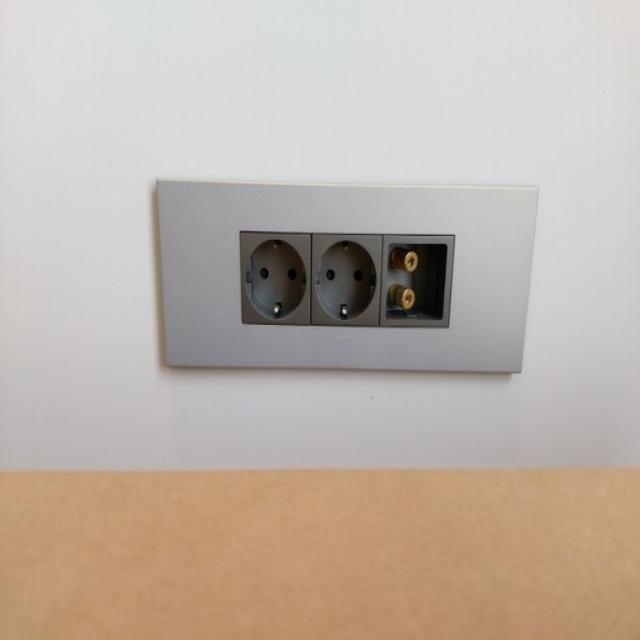typeb: (130, 115, 552, 436)
